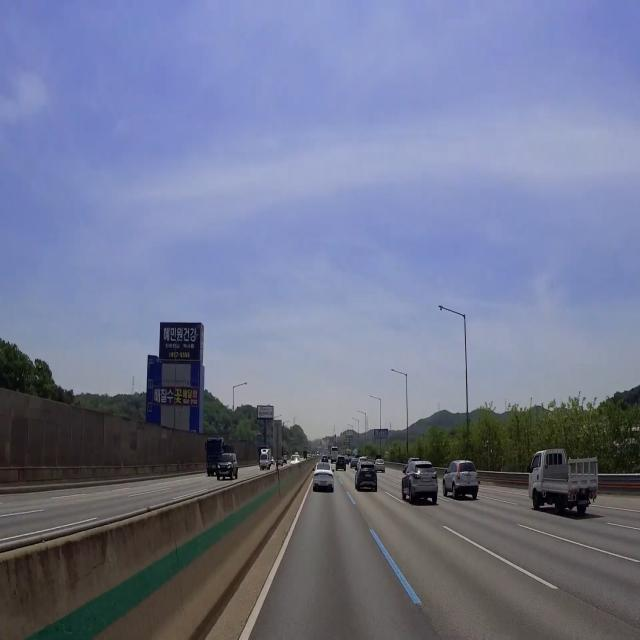car: (576, 496, 592, 514), (317, 478, 330, 493), (420, 474, 433, 487), (364, 471, 374, 485)
